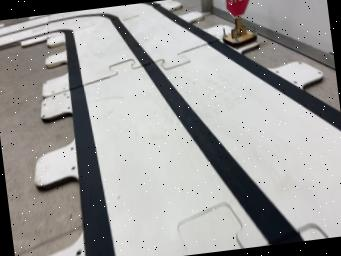stop: (222, 0, 257, 47), (222, 0, 257, 47), (222, 0, 257, 47), (222, 0, 257, 47), (222, 0, 257, 47), (222, 0, 257, 47)
street: (49, 3, 341, 256), (49, 3, 341, 256), (49, 3, 341, 256), (49, 3, 341, 256), (49, 3, 341, 256), (49, 3, 341, 256)
